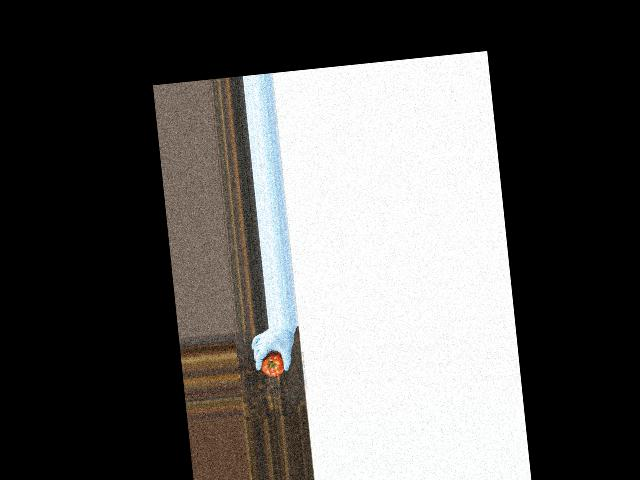tomato: (260, 351, 285, 378)
